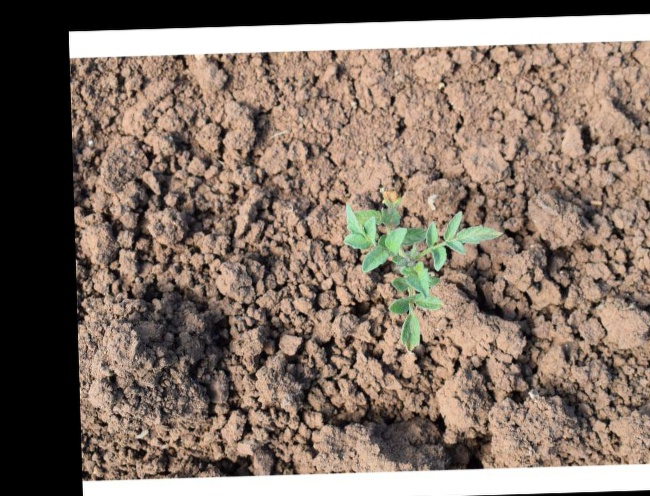tomato: (344, 199, 507, 351)
